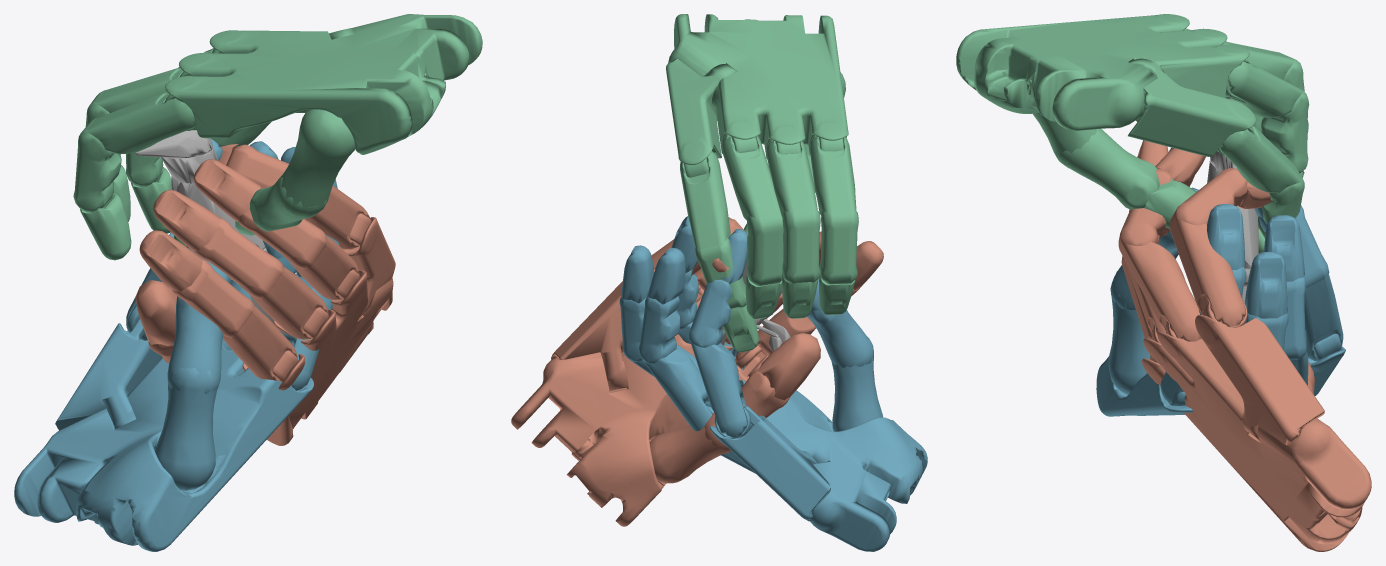
3 views of the same model, side by side, from view 1: azimuth 30°, elevation 25°; view 2: azimuth 150°, elevation 25°; view 3: azimuth 270°, elevation 25° (orthographic). The views are drawn at different scales.
Bounding box in the file's own units: 0.1966 × 0.2311 × 0.1753.
